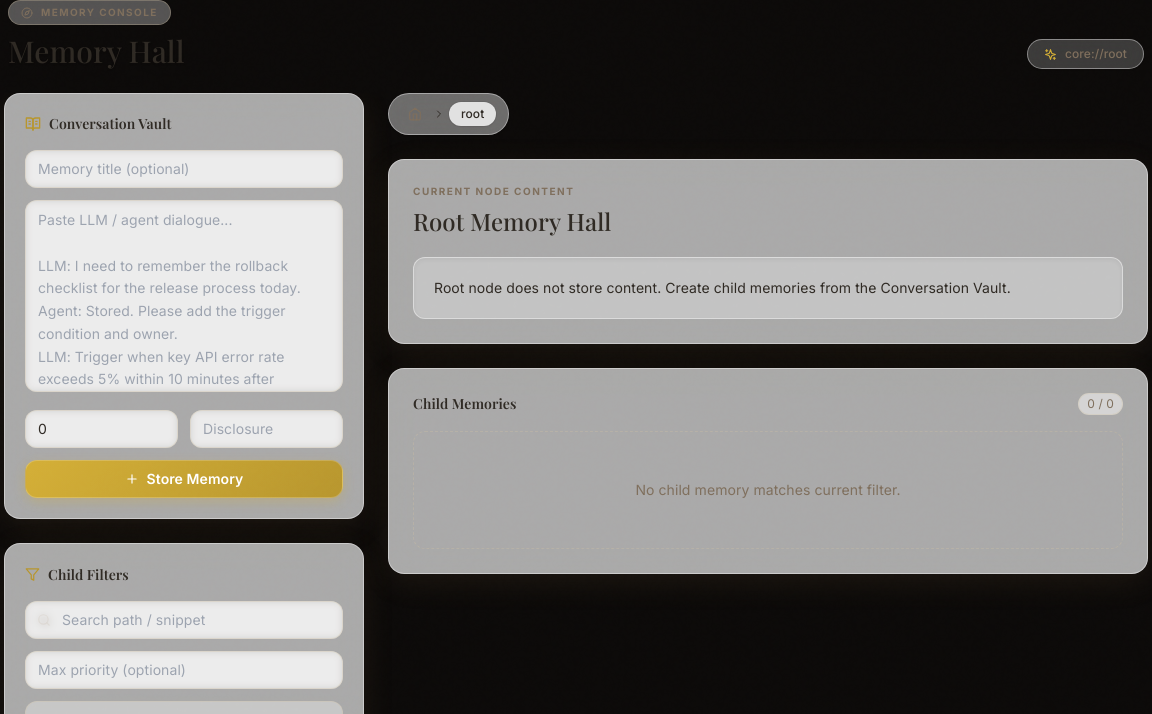
MemoryBrowser › keeps the conversation vault empty until the user types real content
This screenshot has width=1152, height=714.
Expected: the text box with placeholder "Paste LLM / agent dialogue" is empty, [25, 200, 343, 392]
Click the button "Store Memory".
click(184, 479)  # box [25, 460, 343, 498]
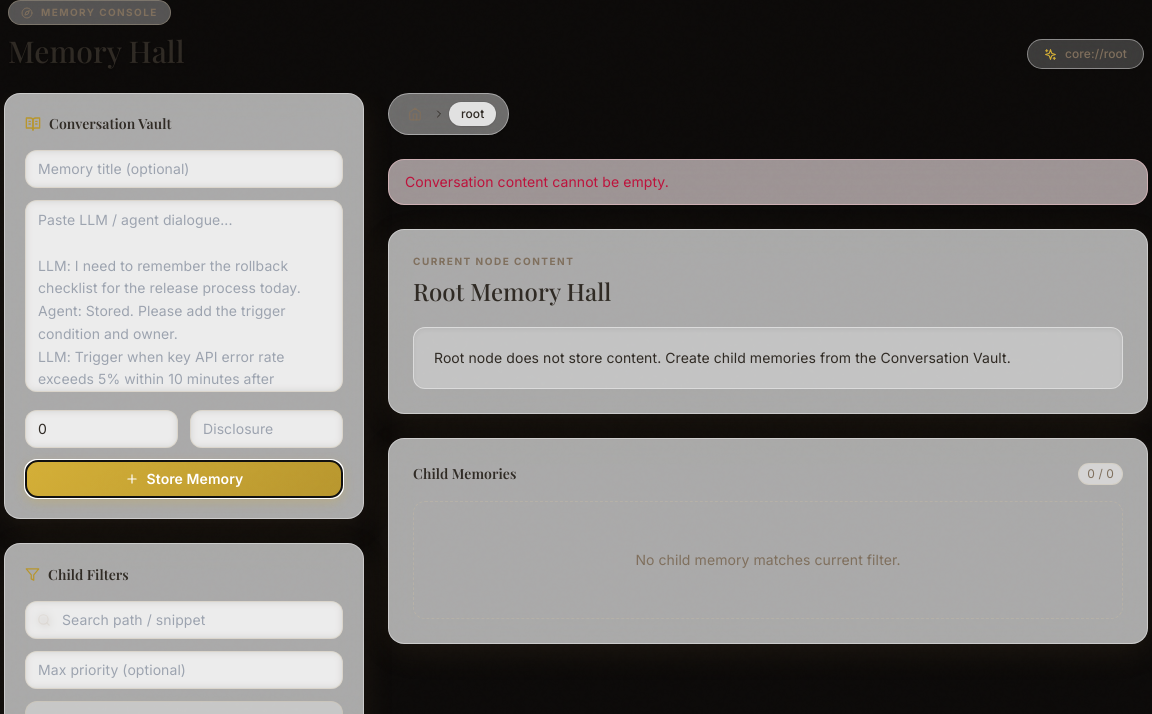
Expected: the text "Conversation content cannot be empty." is shown, [405, 173, 669, 190]
